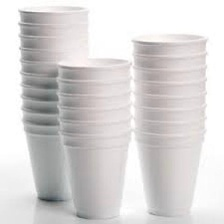paper_cup: (125, 26, 213, 222), (13, 0, 95, 206), (51, 51, 138, 224)
